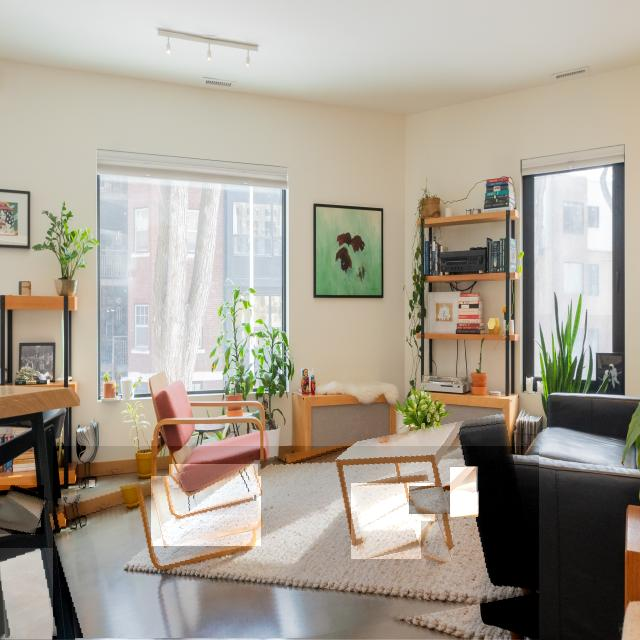floor: (53, 447, 539, 639), (152, 476, 261, 546), (351, 483, 435, 559), (0, 549, 57, 639), (170, 464, 258, 515), (0, 486, 44, 534), (451, 467, 478, 517), (421, 521, 453, 561), (409, 486, 450, 514), (90, 480, 95, 487), (81, 481, 83, 488), (255, 498, 256, 501)
